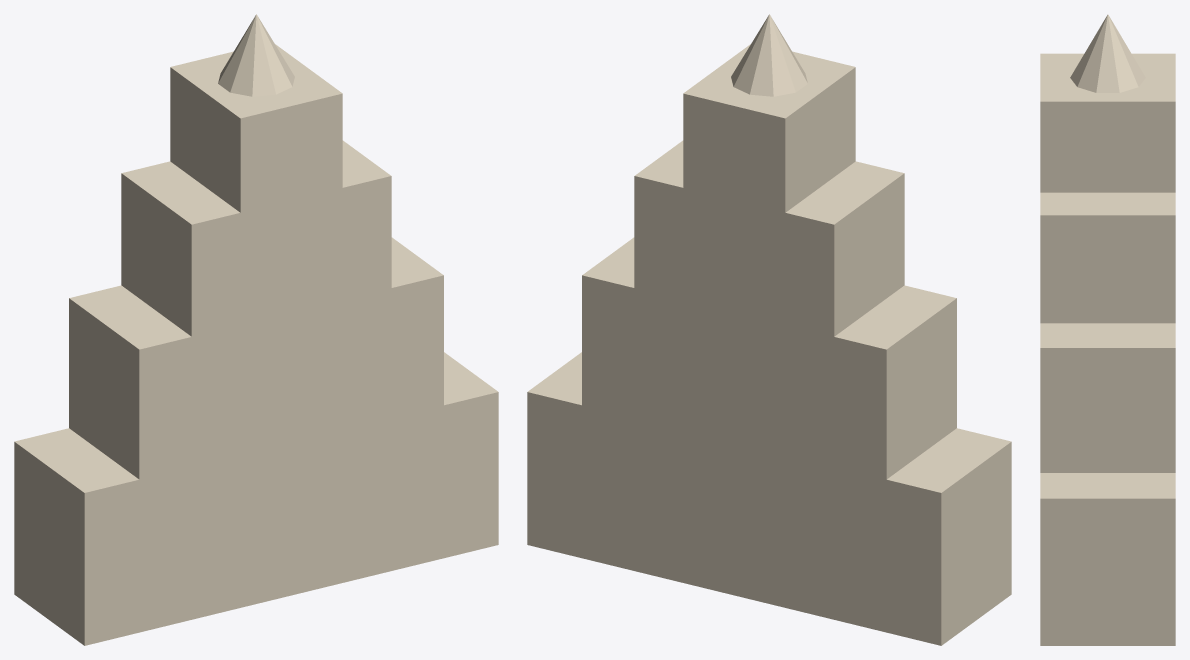
File: accent_nl.glb
3 renders of one model, left to right at view 1: azimuth 30°, elevation 25°; view 2: azimuth 150°, elevation 25°; view 3: azimuth 270°, elevation 25°, orthographic. The views are drawn at different scales.
Visible parts, largest first — view 1: Fort_Accent_nl; view 2: Fort_Accent_nl; view 3: Fort_Accent_nl.
Boxes of the visible parts, x1,y1,x2,y2 form: Fort_Accent_nl: (14,14,498,645); Fort_Accent_nl: (527,14,1011,645); Fort_Accent_nl: (1040,14,1175,645).
Bounding box in the file's own units: 1.7 × 2.18 × 0.5.
